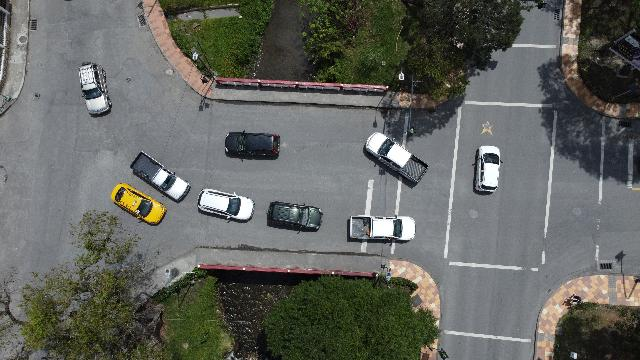Vehiculo: (364, 132, 428, 184), (130, 151, 190, 202), (110, 184, 166, 226), (198, 189, 255, 223), (348, 215, 416, 243), (78, 61, 112, 115), (266, 202, 322, 232), (224, 130, 280, 156), (474, 146, 502, 192)
